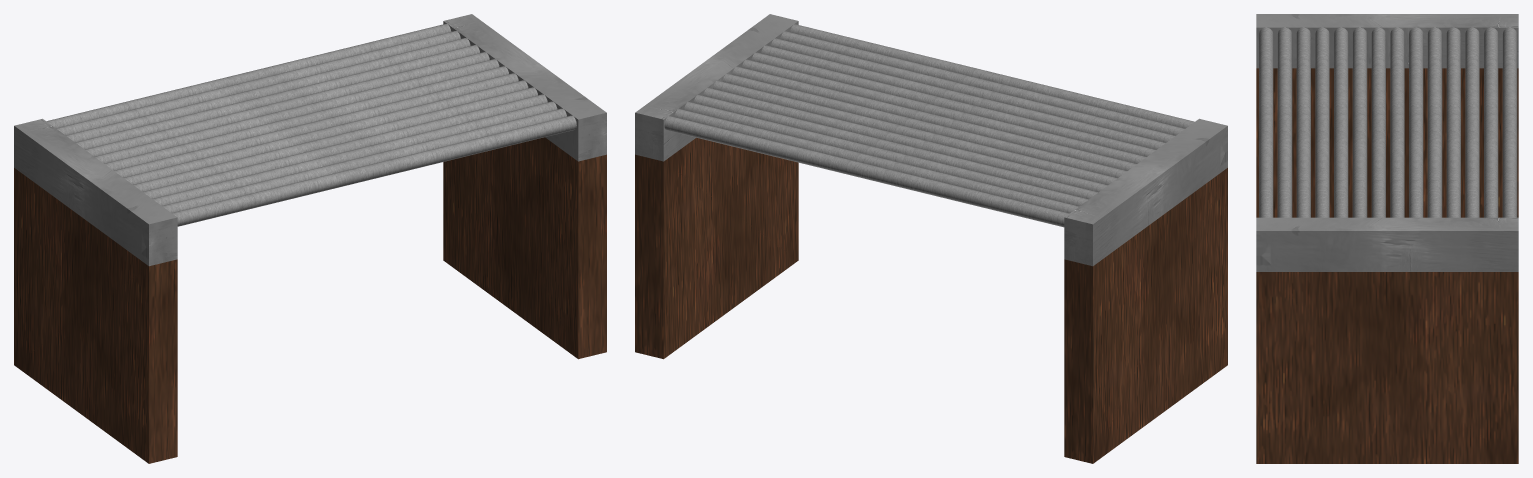
The model's file is belt.fbx.
3 renders of one model, left to right at view 1: azimuth 30°, elevation 25°; view 2: azimuth 150°, elevation 25°; view 3: azimuth 270°, elevation 25°, orthographic. The views are drawn at different scales.
Parts seen in each view (by area): view 1: beltLegs, beltRolls; view 2: beltLegs, beltRolls; view 3: beltLegs, beltRolls.
Part boxes in pixels (x1,y1,x2,y2): beltLegs: (14,14,606,463); beltRolls: (46,24,576,226); beltLegs: (635,14,1227,463); beltRolls: (664,24,1194,227); beltLegs: (1256,14,1518,463); beltRolls: (1259,27,1517,217).
Size of the model in its own units: 1.02 by 2 by 1.
